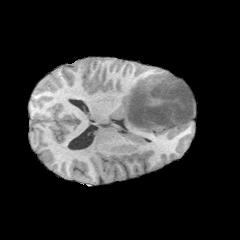glioma: (114, 76, 192, 135)
